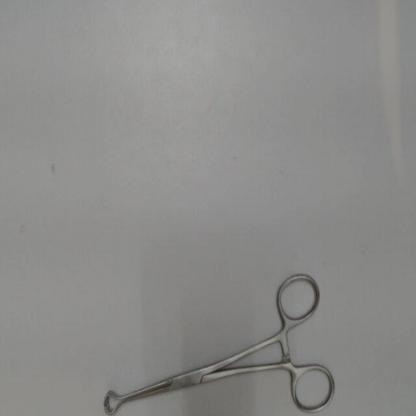Babcock Tissue Forceps: (99, 268, 338, 415)
